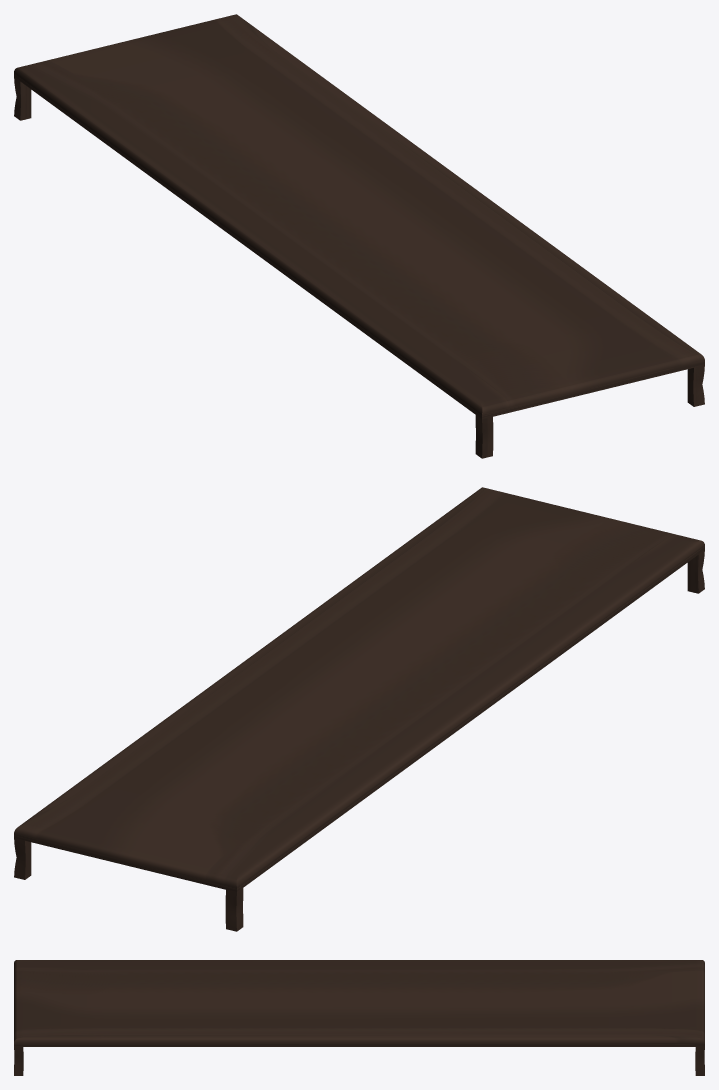
The model's file is NewDiningTable.glb.
3 renders of one model, top to bottom at view 1: azimuth 30°, elevation 25°; view 2: azimuth 150°, elevation 25°; view 3: azimuth 270°, elevation 25°, orthographic. The views are drawn at different scales.
Visible parts, largest first — view 1: Cube; view 2: Cube; view 3: Cube.
Part boxes in pixels (left/top/right/bottom): Cube: left=14, top=14, right=704, bottom=458; Cube: left=14, top=487, right=704, bottom=931; Cube: left=14, top=960, right=704, bottom=1075.
Size of the model in its own units: 10.09 by 2.16 by 36.69.
Materials: 1 (1 with a texture image).
